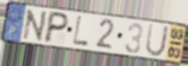2: (94, 18, 117, 53)
3: (125, 22, 144, 55)
L: (72, 15, 90, 48)
N: (22, 9, 49, 43)
P: (42, 10, 71, 44)
U: (145, 22, 170, 58)
